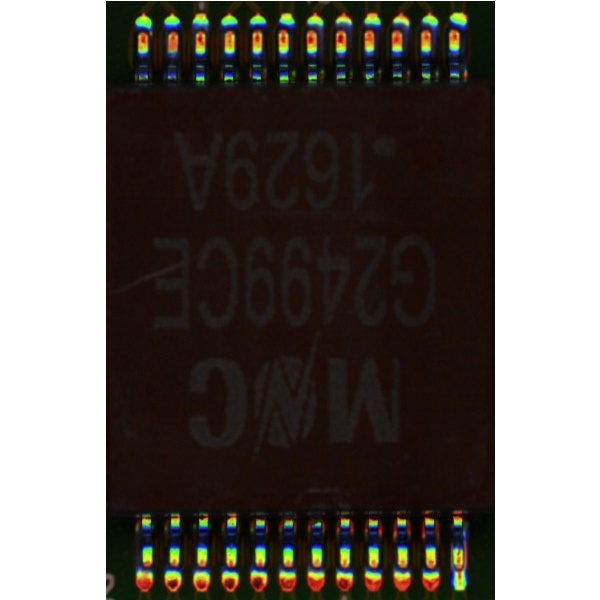Bad_podu: (455, 564, 464, 580)
Bad_qiaojiao: (463, 525, 468, 567)
